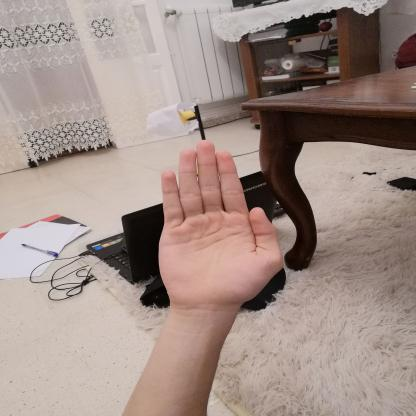SEEN: (141, 133, 293, 320)
